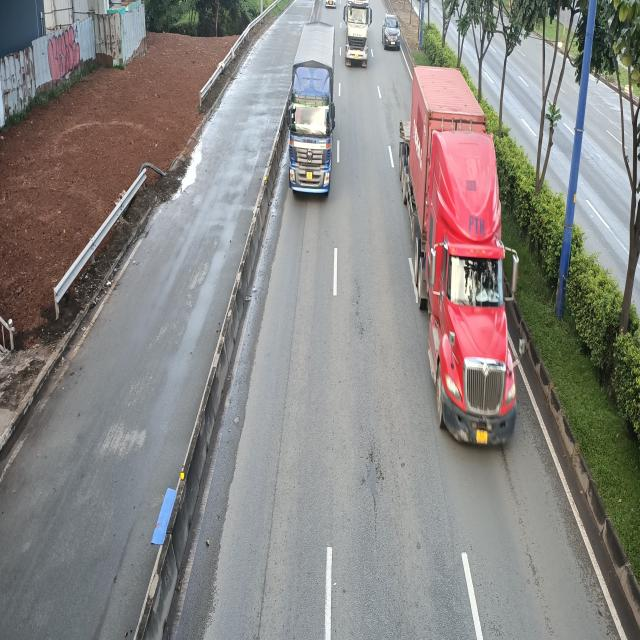car: (382, 12, 401, 50)
container: (397, 68, 520, 451), (342, 1, 370, 70)
truck: (288, 24, 339, 201)
